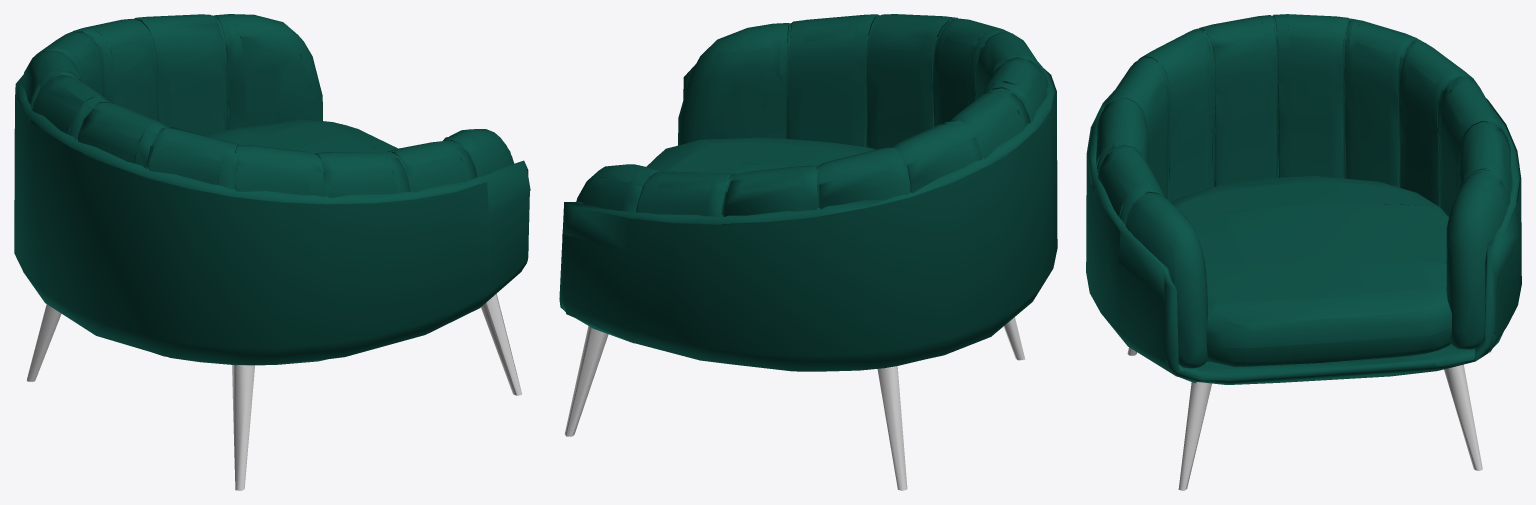
Rendered from Chair_04_new.fbx.
3 views of the same model, side by side, from view 1: azimuth 30°, elevation 25°; view 2: azimuth 150°, elevation 25°; view 3: azimuth 270°, elevation 25° (orthographic). The views are drawn at different scales.
Parts seen in each view (by area): view 1: Cube_2; view 2: Cube_2; view 3: Cube_2.
Boxes of the visible parts, bbox=[...] form: Cube_2: bbox=[14, 14, 530, 490]; Cube_2: bbox=[559, 14, 1057, 490]; Cube_2: bbox=[1086, 14, 1521, 490].
Size of the model in its own units: 72.4 by 57.86 by 73.51.
